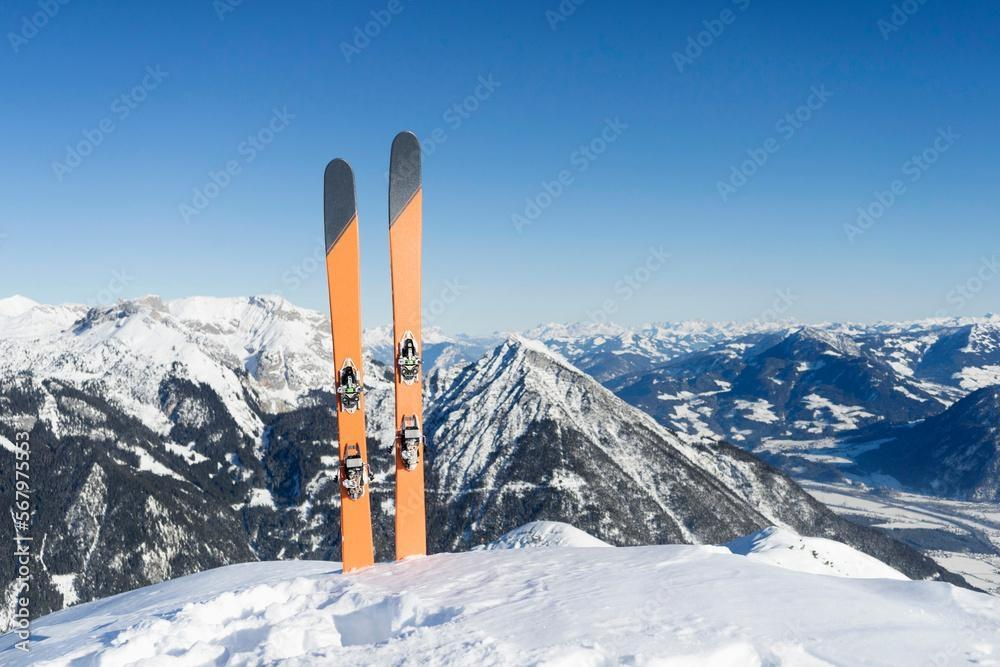Skis: (260, 91, 492, 577)
